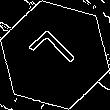L_SE: (26, 26, 84, 84)
